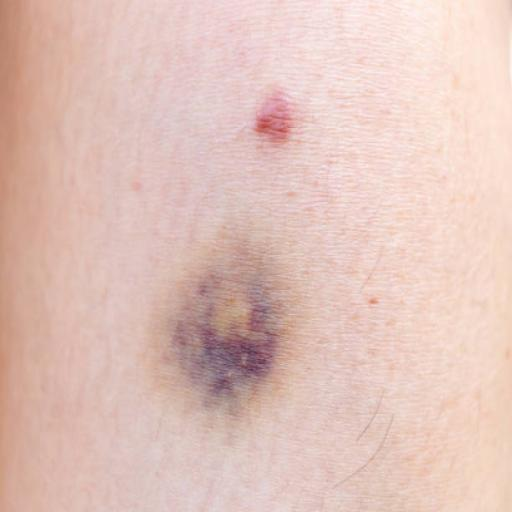bruises: (174, 224, 268, 396), (256, 57, 308, 181)
